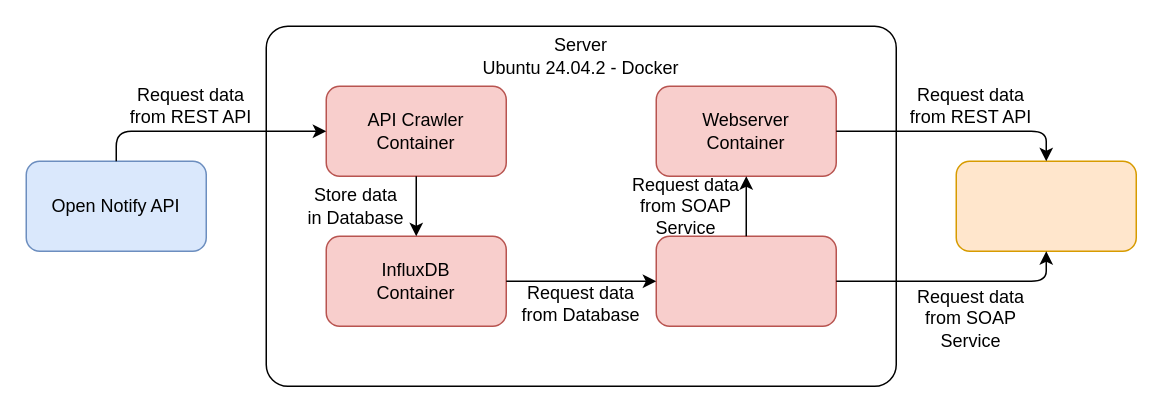
Image size: 1163x413. Some labels were removed from this diagram. The centre of each missing label's shape, as x and y in pixels:
API Provider Container: point (745, 280)
Website: point (1045, 205)
